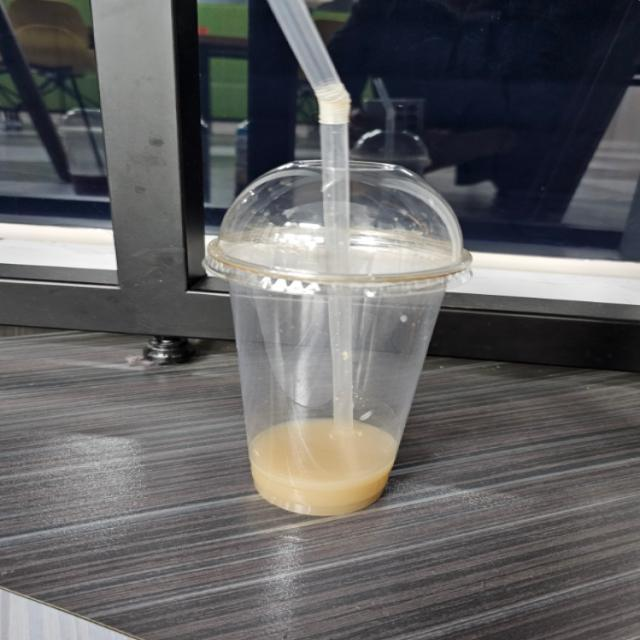cup: (178, 142, 460, 518)
